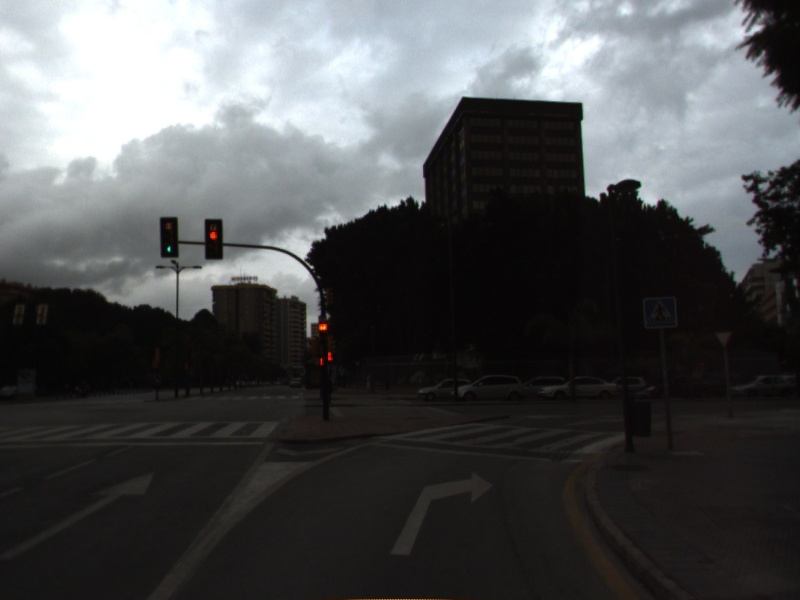RIGHT: (386, 467, 499, 559)
STRAIGHT: (1, 465, 159, 561)
